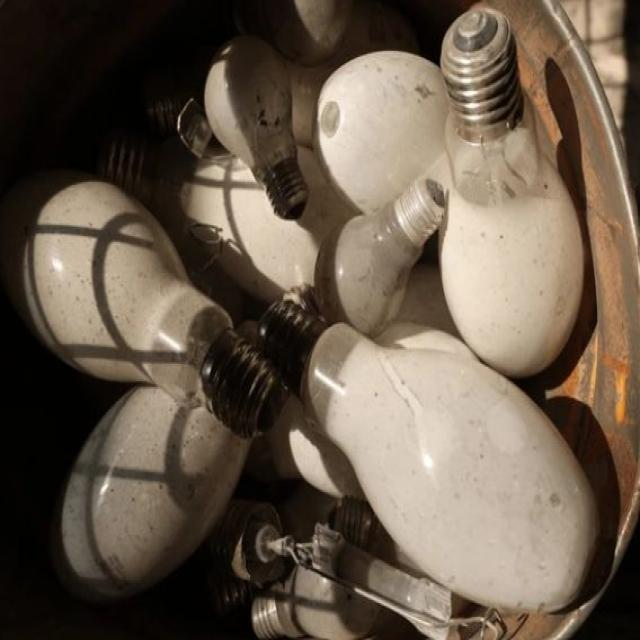electronic: (0, 0, 605, 638), (296, 314, 598, 614), (434, 5, 585, 378), (50, 381, 254, 601)
